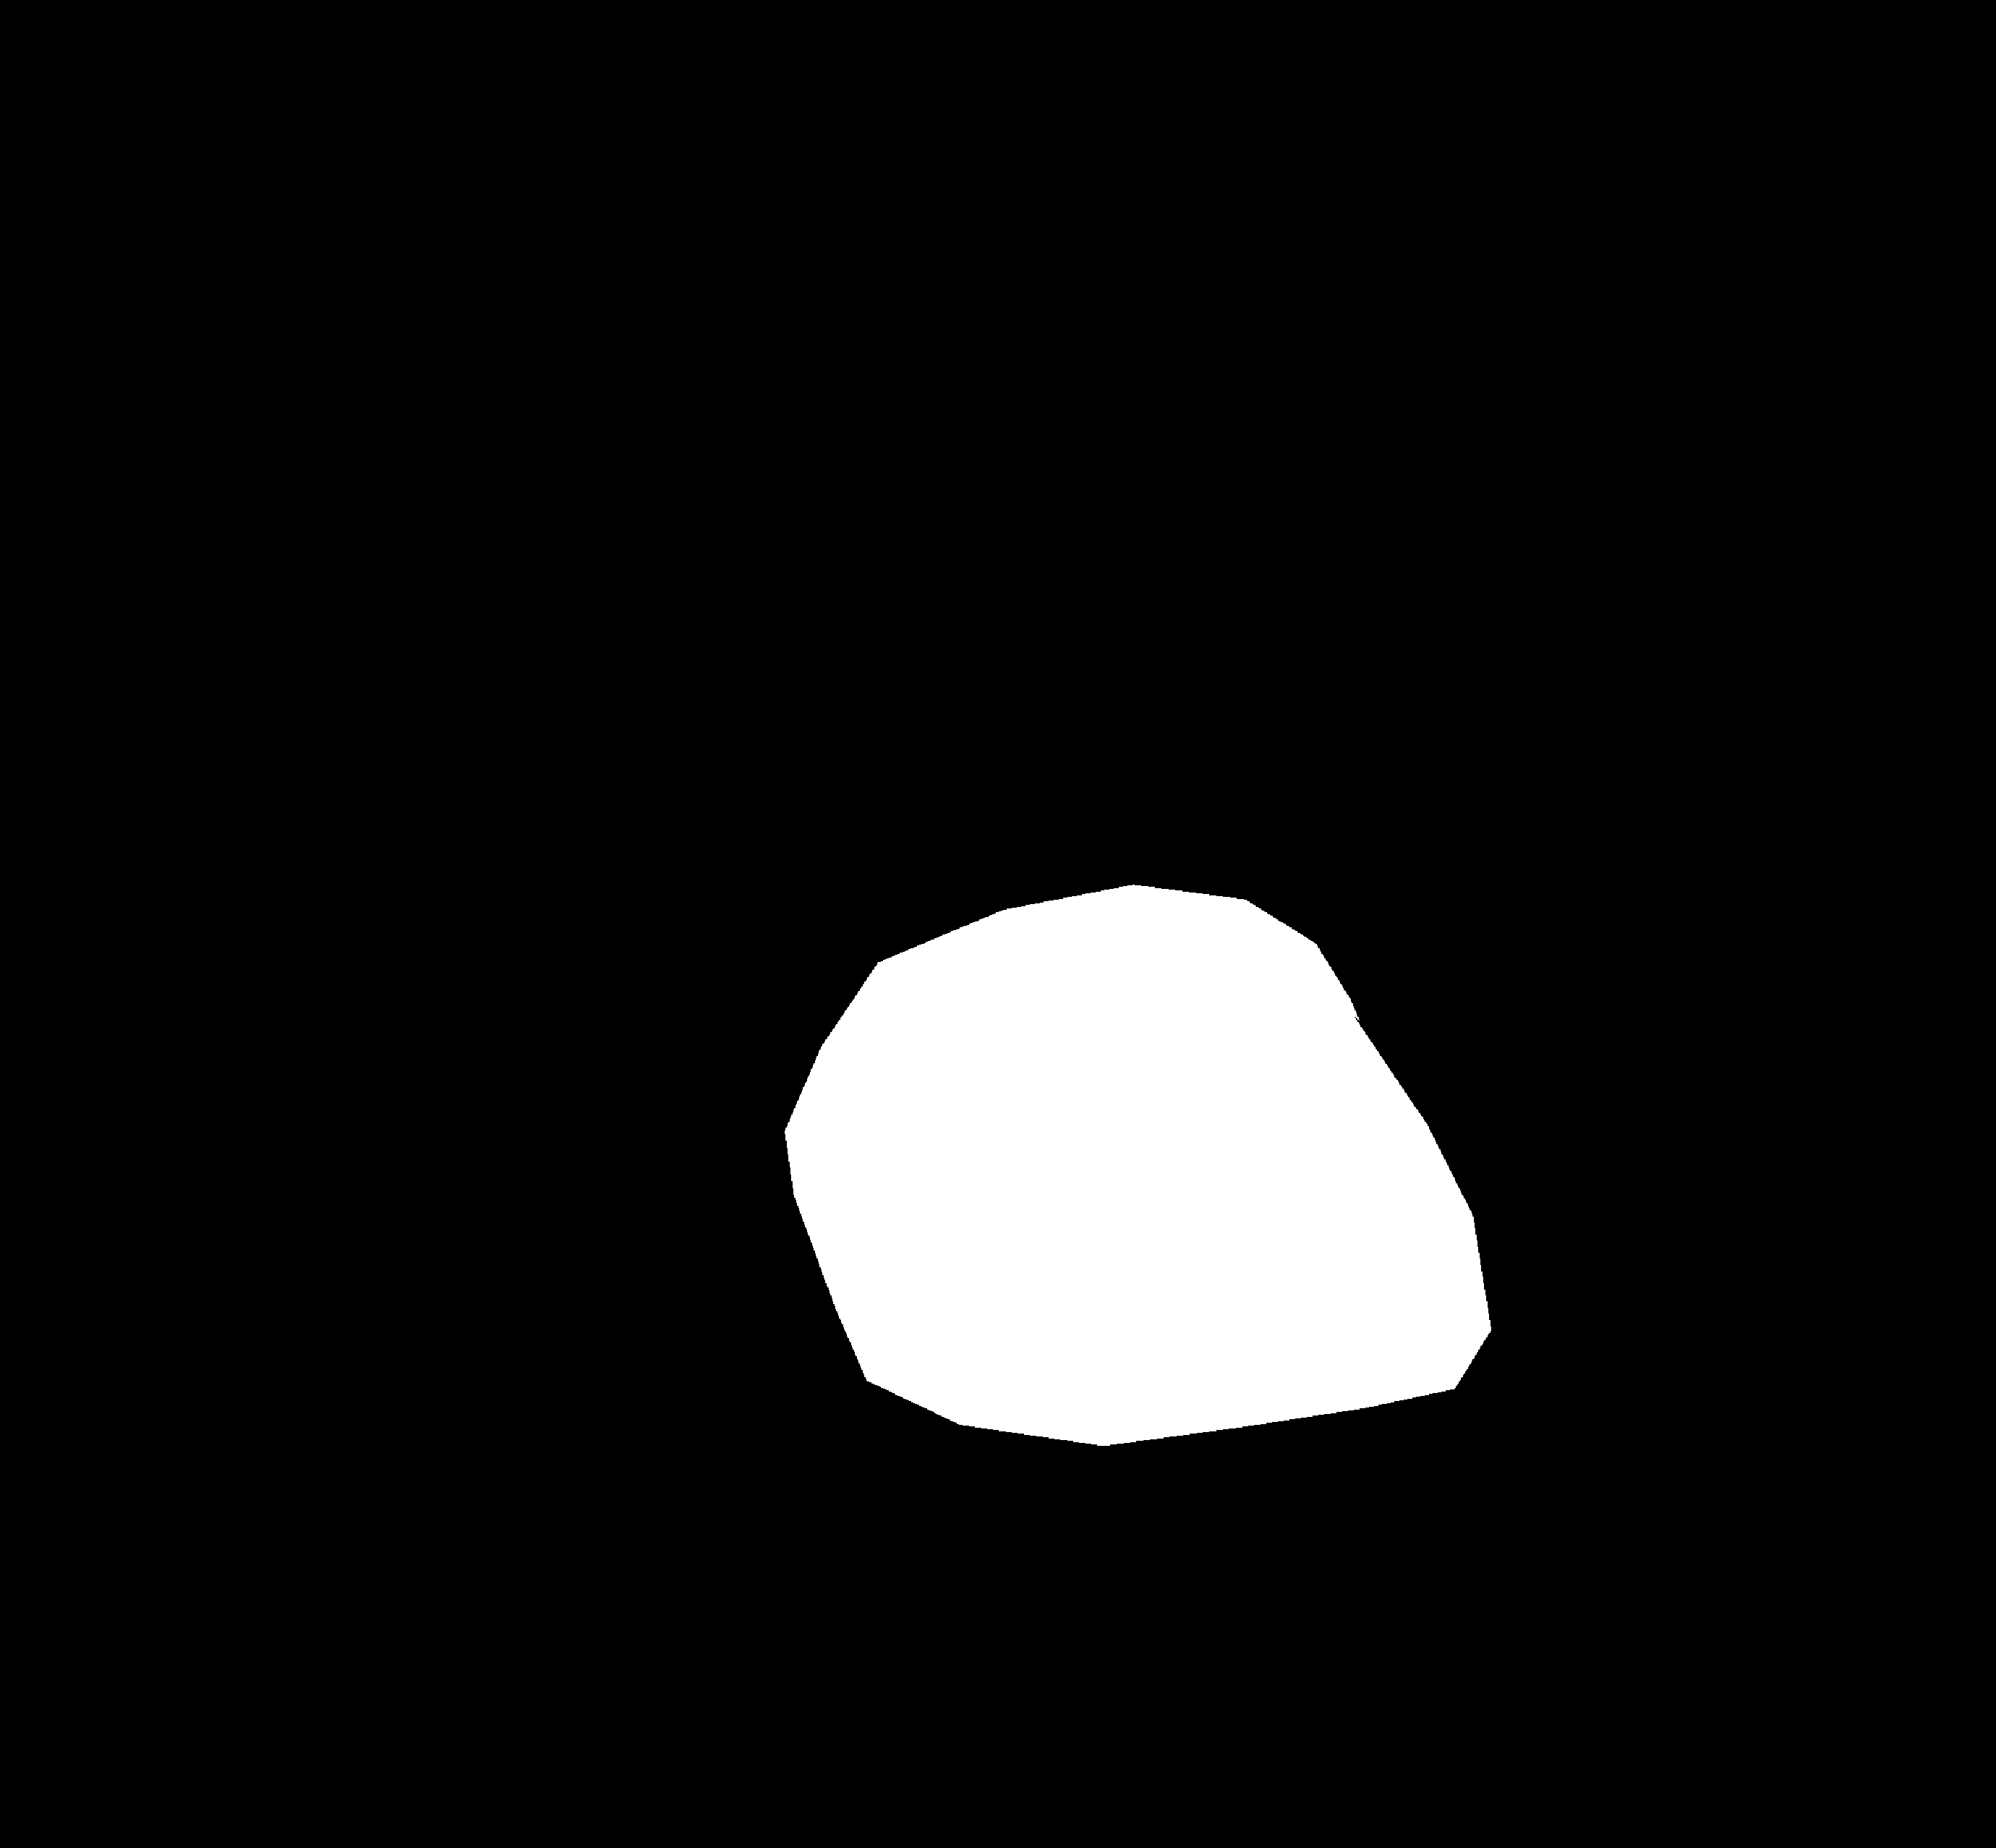heart: (782, 1012, 1521, 1439)
left_lung: (221, 280, 984, 1486)
right_lung: (1128, 332, 1815, 1594)
